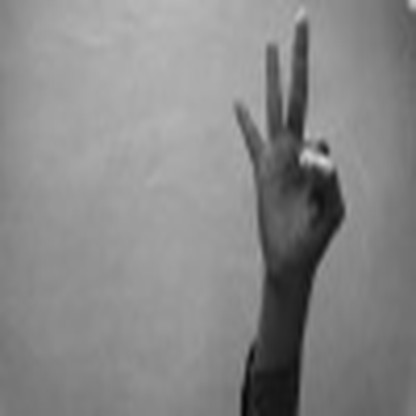f: (221, 8, 347, 295)
